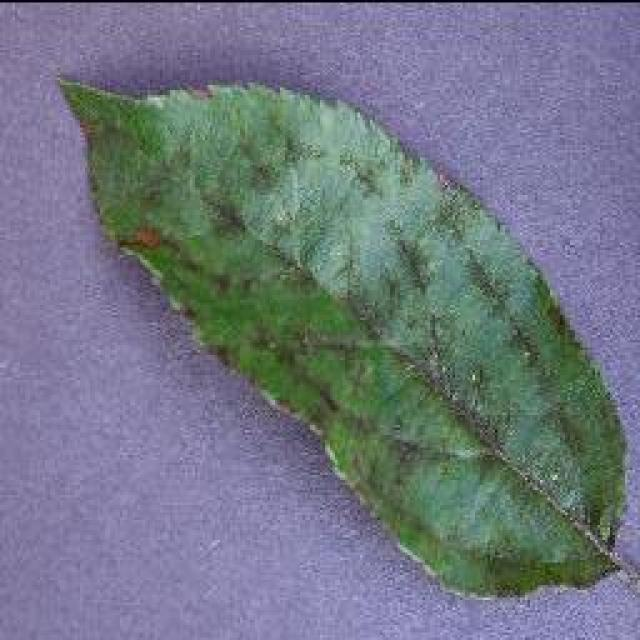apple scab disease: (55, 72, 630, 602)
